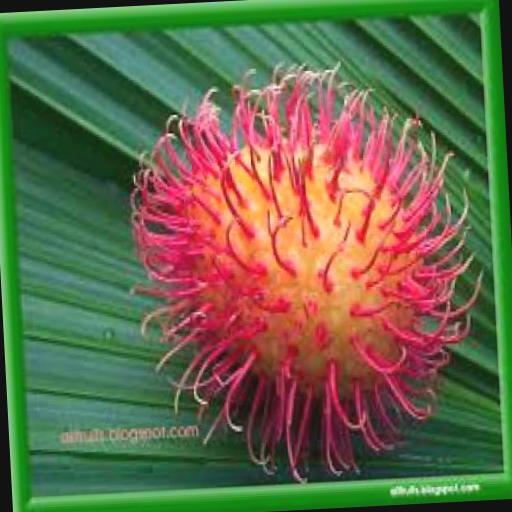biodegradable: (120, 50, 495, 490)
